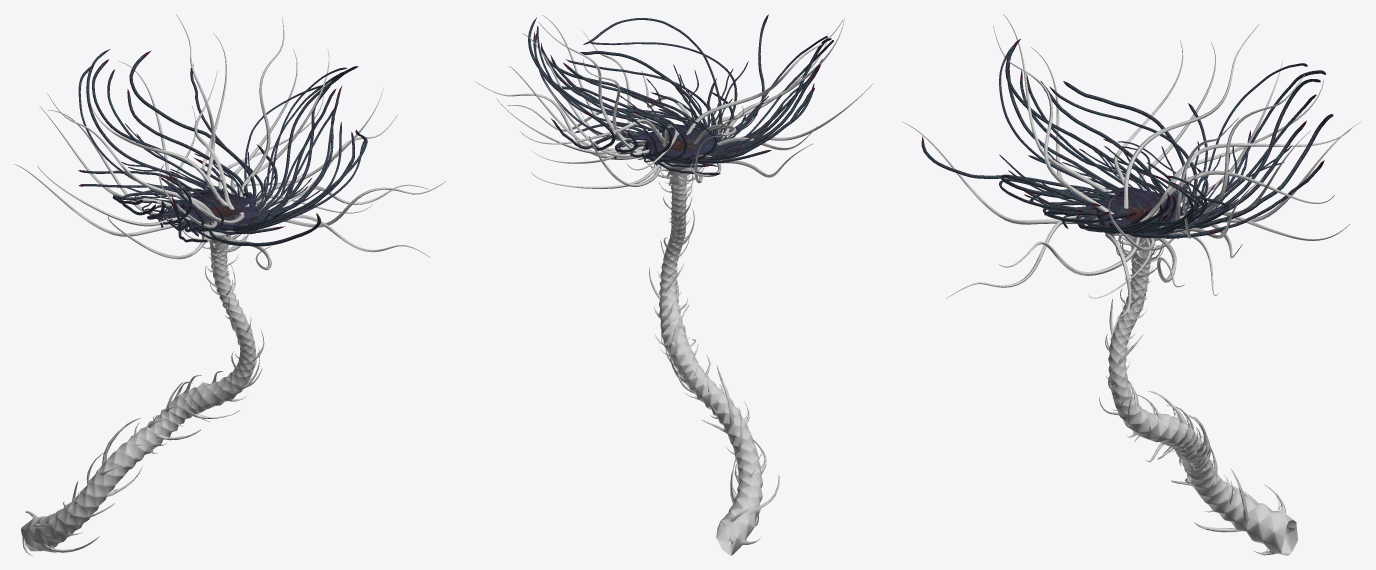
File: sm0669_qliphothl19parts_tentaclee.fbx
3 views of the same model, side by side, from view 1: azimuth 30°, elevation 25°; view 2: azimuth 150°, elevation 25°; view 3: azimuth 270°, elevation 25° (orthographic). The views are drawn at different scales.
Visible parts, largest first — view 1: LOD_1_Group_0_Sub_1__l19_01_qliphoth_tentacle_A_Mat, LOD_1_Group_0_Sub_3__l19_01_qliphoth_kuki_Mat, LOD_1_Group_0_Sub_4__l19_01_enkei_qliphoth_branch_Mat, LOD_1_Group_0_Sub_2__l19_01_qliphoth_top_Mat; view 2: LOD_1_Group_0_Sub_1__l19_01_qliphoth_tentacle_A_Mat, LOD_1_Group_0_Sub_3__l19_01_qliphoth_kuki_Mat, LOD_1_Group_0_Sub_4__l19_01_enkei_qliphoth_branch_Mat, LOD_1_Group_0_Sub_2__l19_01_qliphoth_top_Mat; view 3: LOD_1_Group_0_Sub_1__l19_01_qliphoth_tentacle_A_Mat, LOD_1_Group_0_Sub_4__l19_01_enkei_qliphoth_branch_Mat, LOD_1_Group_0_Sub_3__l19_01_qliphoth_kuki_Mat, LOD_1_Group_0_Sub_2__l19_01_qliphoth_top_Mat.
Part boxes in pixels (<box>): LOD_1_Group_0_Sub_1__l19_01_qliphoth_tentacle_A_Mat: <box>78,49,367,246</box>; LOD_1_Group_0_Sub_3__l19_01_qliphoth_kuki_Mat: <box>21,230,264,555</box>; LOD_1_Group_0_Sub_4__l19_01_enkei_qliphoth_branch_Mat: <box>14,14,446,270</box>; LOD_1_Group_0_Sub_2__l19_01_qliphoth_top_Mat: <box>161,189,268,236</box>; LOD_1_Group_0_Sub_1__l19_01_qliphoth_tentacle_A_Mat: <box>528,14,833,175</box>; LOD_1_Group_0_Sub_3__l19_01_qliphoth_kuki_Mat: <box>642,157,779,555</box>; LOD_1_Group_0_Sub_4__l19_01_enkei_qliphoth_branch_Mat: <box>475,15,873,188</box>; LOD_1_Group_0_Sub_2__l19_01_qliphoth_top_Mat: <box>632,123,730,168</box>; LOD_1_Group_0_Sub_1__l19_01_qliphoth_tentacle_A_Mat: <box>921,39,1333,238</box>; LOD_1_Group_0_Sub_4__l19_01_enkei_qliphoth_branch_Mat: <box>902,14,1361,340</box>; LOD_1_Group_0_Sub_3__l19_01_qliphoth_kuki_Mat: <box>1099,235,1297,555</box>; LOD_1_Group_0_Sub_2__l19_01_qliphoth_top_Mat: <box>1086,187,1188,239</box>.
Bounding box in the file's own units: 145463 × 185514 × 137466.
